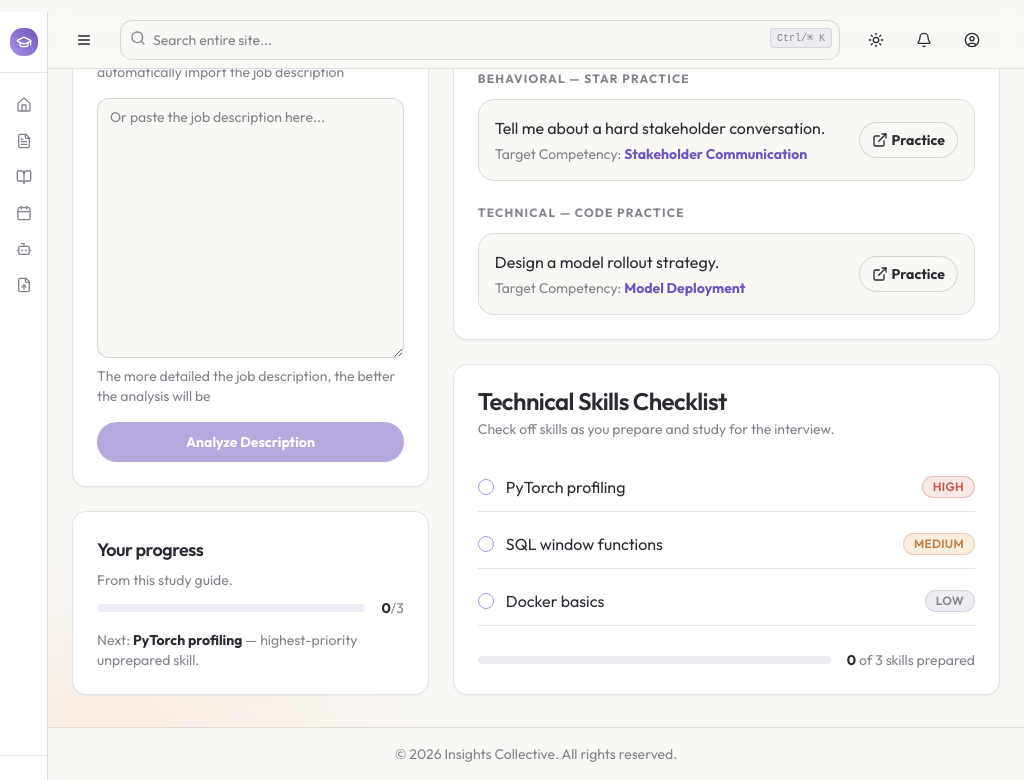
Test: JobDescription page (Split Desk) › checking skills updates the prepared counter and next-skill hint
The width and height of the screenshot is (1024, 780).
(page scrolled)
Expected: the heading "Technical Skills Checklist" is shown, [478,386,727,416]
Expected: the text "0 of 3 skills prepared" is shown, [847,650,975,670]
Click the 1st checkbox named "PyTorch profiling": coordinates (486, 487) [478,479,494,495]
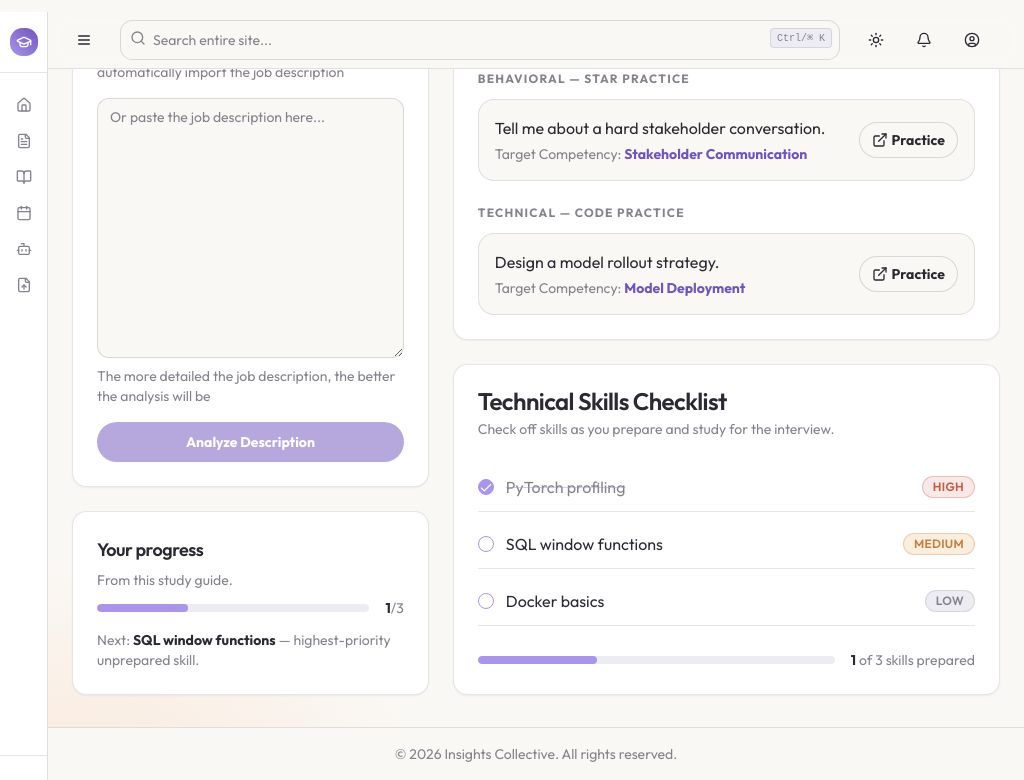
Expected: the text "SQL window functions" is shown, [133,631,276,649]
